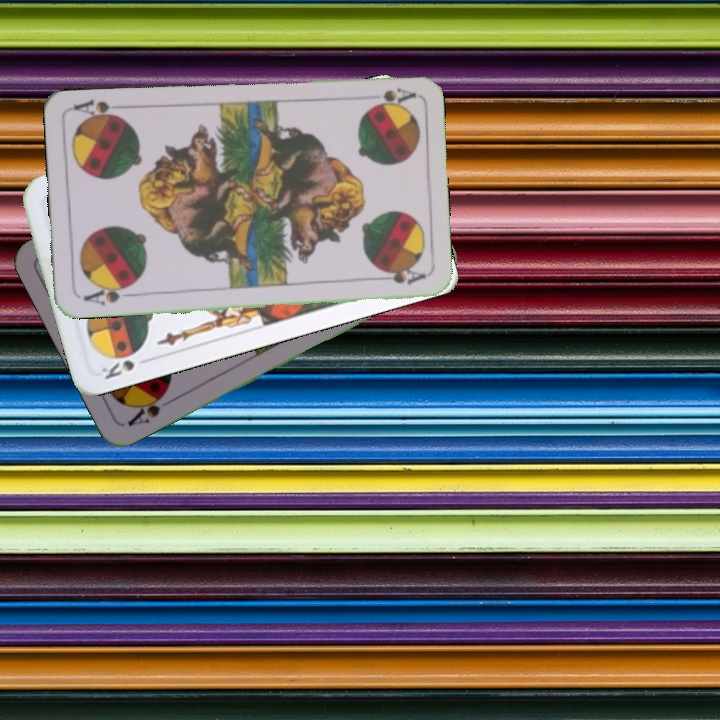SA: (123, 386, 177, 429), (79, 280, 137, 308), (366, 83, 417, 109)
SK: (97, 356, 138, 382)
